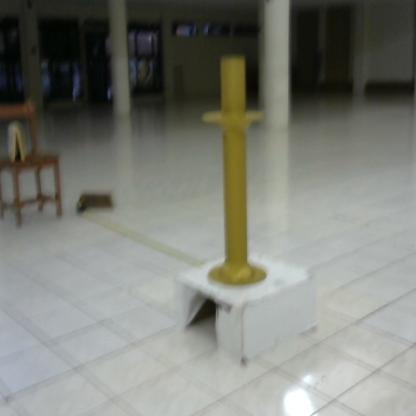pole: (202, 51, 271, 293)
